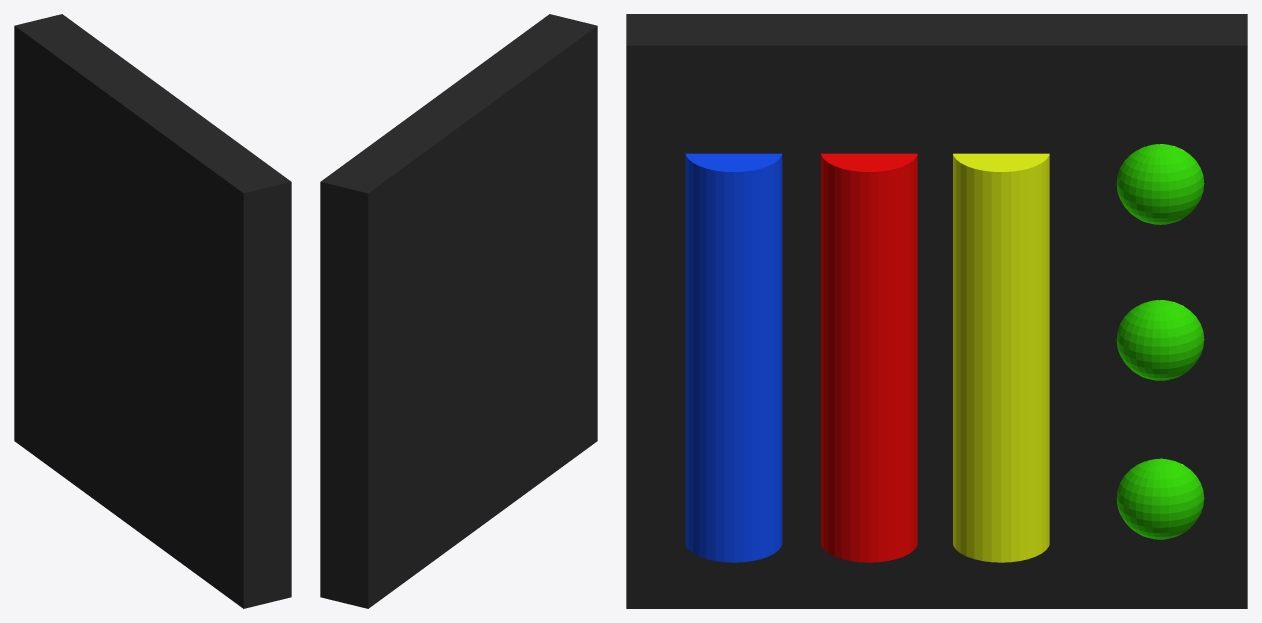
The model's file is sliderTask.fbx.
3 views of the same model, side by side, from view 1: azimuth 30°, elevation 25°; view 2: azimuth 150°, elevation 25°; view 3: azimuth 270°, elevation 25° (orthographic). The views are drawn at different scales.
Parts seen in each view (by area): view 1: Cube; view 2: Cube; view 3: Cube.
Part boxes in pixels (x1,y1,x2,y2): Cube: (14,14,291,608); Cube: (320,14,597,608); Cube: (626,14,1247,608).
Bounding box in the file's own units: 27.67 × 145 × 145.
